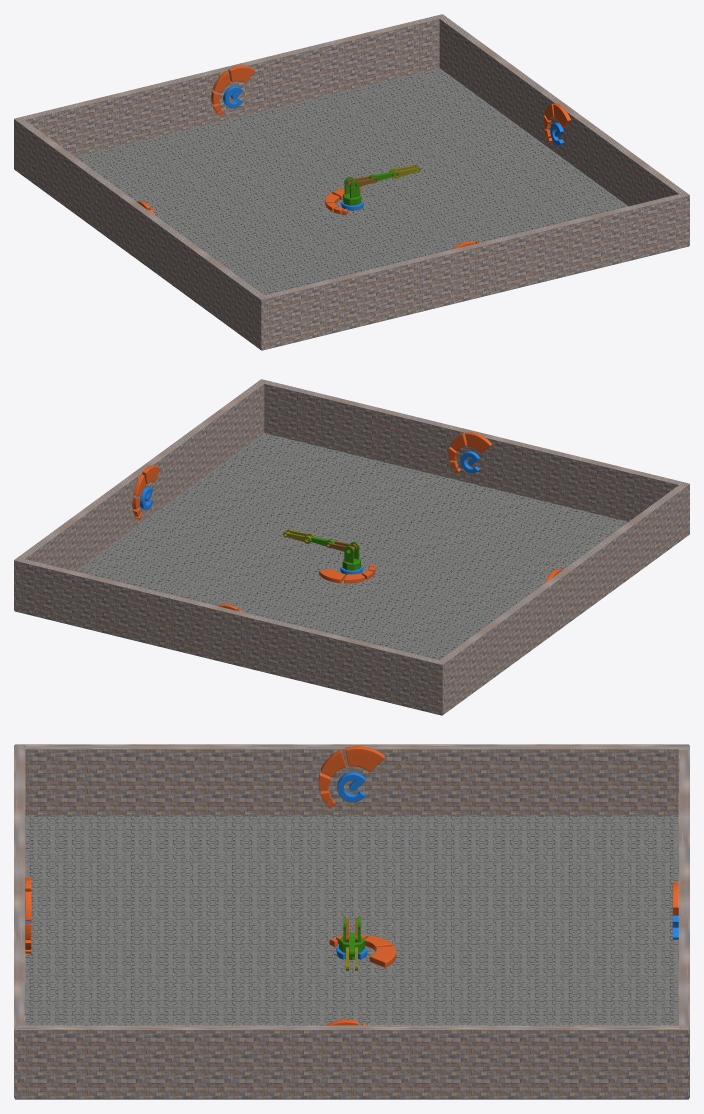
Rendered from arm001.gltf.
3 renders of one model, top to bottom at view 1: azimuth 30°, elevation 25°; view 2: azimuth 150°, elevation 25°; view 3: azimuth 270°, elevation 25°, orthographic. The views are drawn at different scales.
Parts seen in each view (by area): view 1: CubeStatic, WallStatic.000, WallStatic.003, WallStatic.001, WallStatic.002, ecclogo.001, ecclogo.004, ecclogo; view 2: CubeStatic, WallStatic.003, WallStatic.000, WallStatic.001, WallStatic.002, ecclogo.003, ecclogo.004, ecclogo; view 3: CubeStatic, WallStatic.002, WallStatic.001, WallStatic.000, WallStatic.003, ecclogo.002, ecclogo.
Boxes of the visible parts, box(x1,y1,x2,y2) form: CubeStatic: box(76, 68, 688, 350); WallStatic.000: box(258, 192, 689, 349); WallStatic.003: box(14, 14, 444, 156); WallStatic.001: box(14, 117, 266, 349); WallStatic.002: box(436, 14, 689, 244); ecclogo.001: box(211, 65, 254, 115); ecclogo.004: box(543, 103, 570, 145); ecclogo: box(325, 188, 363, 215); CubeStatic: box(15, 433, 627, 715); WallStatic.003: box(14, 559, 445, 714); WallStatic.000: box(259, 379, 689, 521); WallStatic.001: box(436, 484, 689, 714); WallStatic.002: box(14, 379, 266, 609); ecclogo.003: box(448, 432, 492, 474); ecclogo.004: box(132, 465, 160, 519); ecclogo: box(319, 564, 375, 583); CubeStatic: box(15, 816, 688, 1099); WallStatic.002: box(15, 1025, 688, 1098); WallStatic.001: box(15, 744, 688, 816); WallStatic.000: box(14, 745, 25, 1098); WallStatic.003: box(678, 745, 689, 1098); ecclogo.002: box(318, 746, 384, 808); ecclogo: box(329, 934, 396, 967).
Bounding box in the file's own units: 120 × 14.38 × 120.
7 materials, 2 textured.
